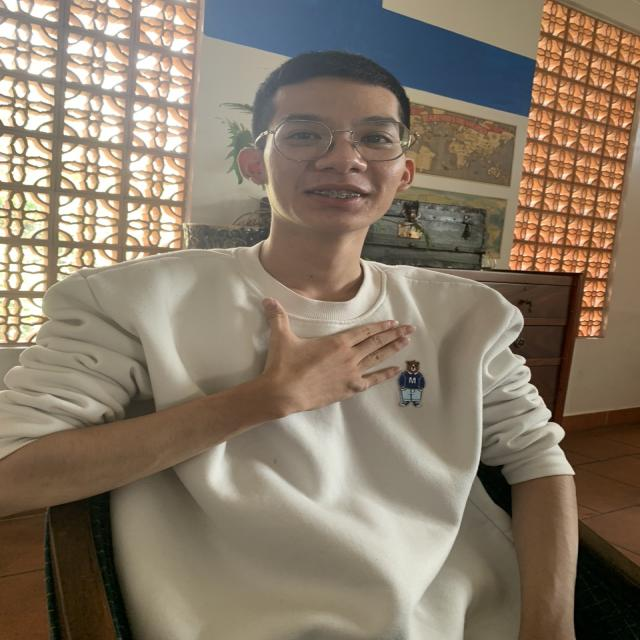please: (247, 279, 422, 453)
